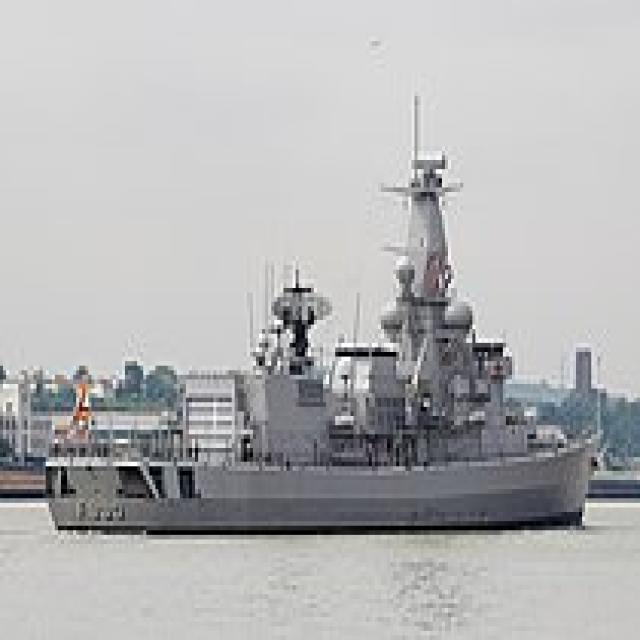Warship: (39, 87, 600, 530)
